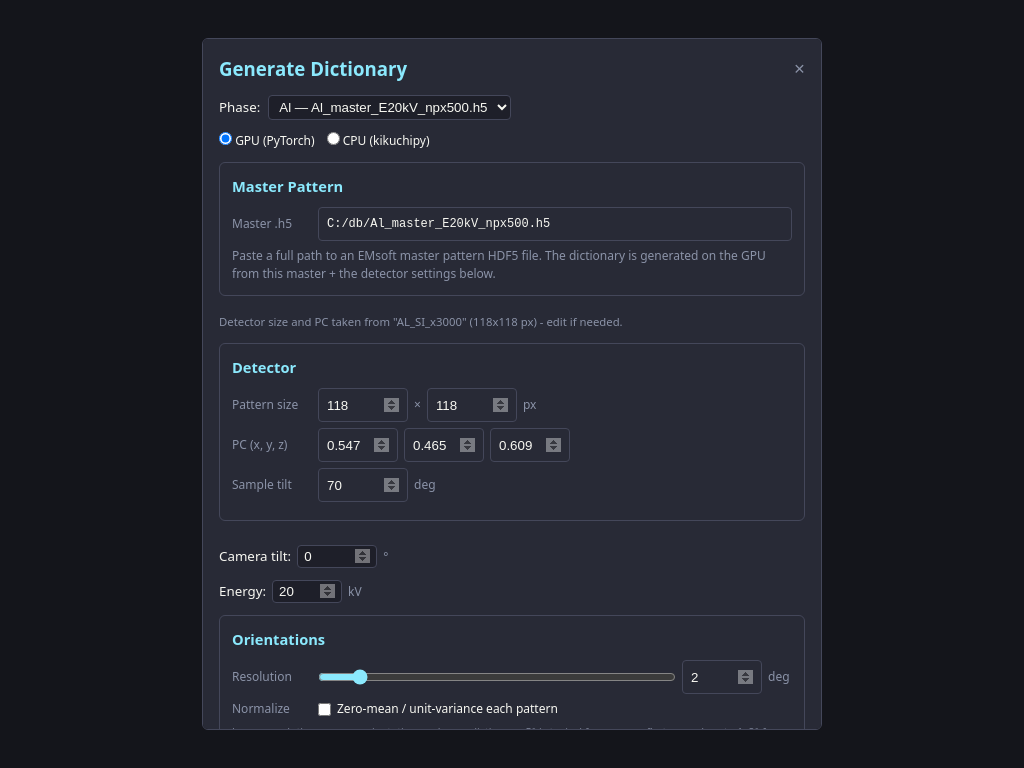
it: phase selection › switching the phase switches the master that will be simulated
Expected: the field named "Paste the full file path to an EMsoft master pattern HDF5 (." holds "C:/db/Al_master_E20kV_npx500.h5", [318,207,792,241]
Select "Si — Si_master_E20kV_npx500.h5" in the dropdown labelled "Phase:" at (390, 108), box [268,95,511,120]
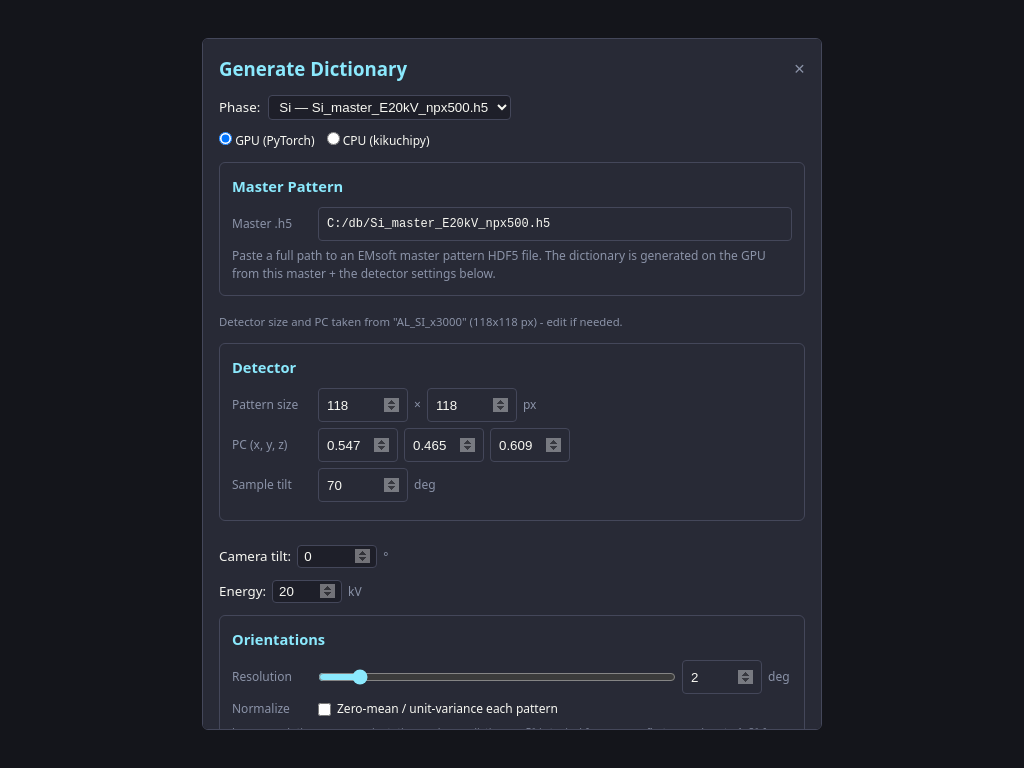
Expected: the field named "Paste the full file path to an EMsoft master pattern HDF5 (." holds "C:/db/Si_master_E20kV_npx500.h5", [318,207,792,241]
